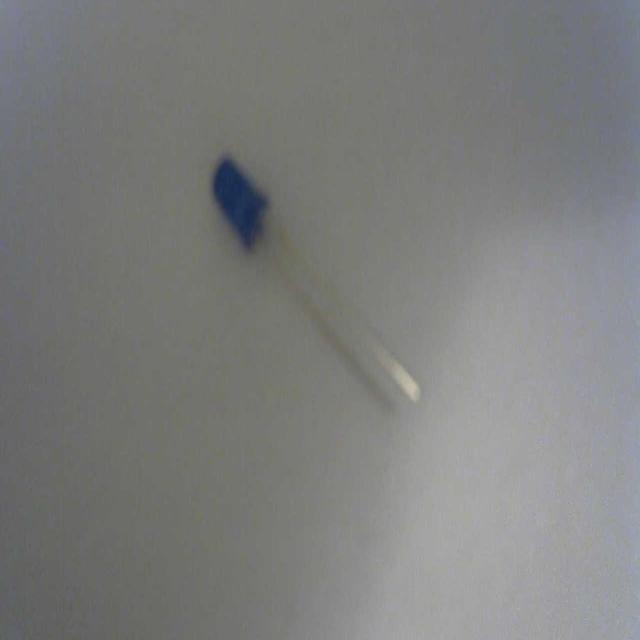blue_led: (212, 154, 268, 250)
